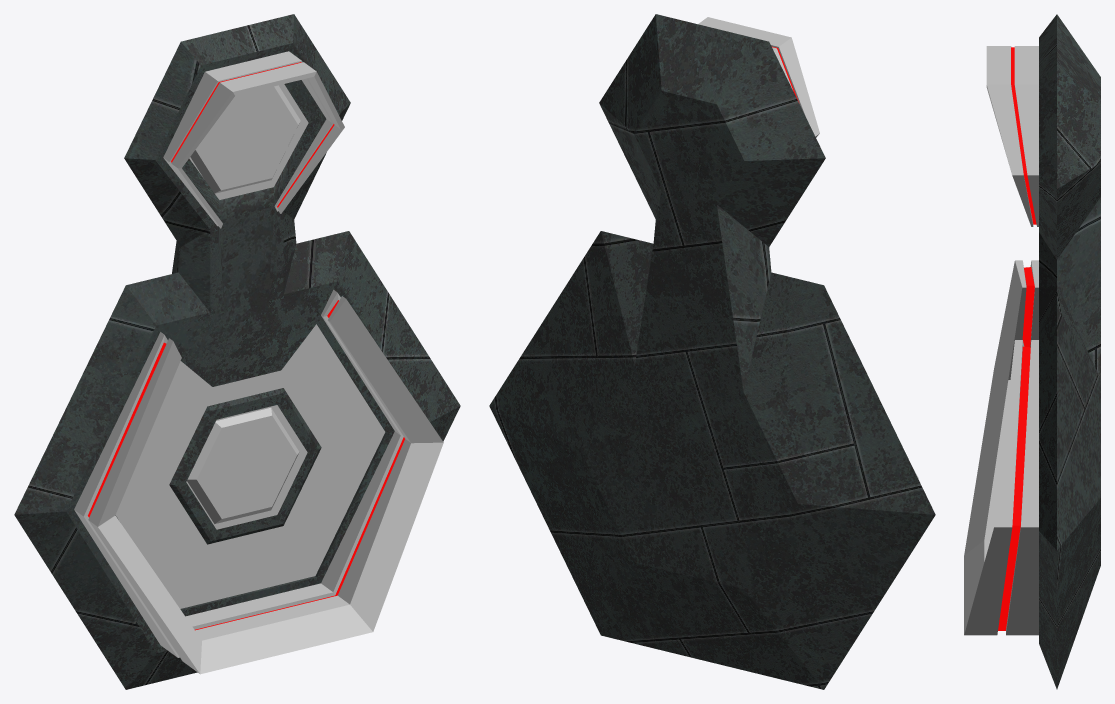
The model's file is EggPlatform_FixedNormals.fbx.
3 renders of one model, left to right at view 1: azimuth 30°, elevation 25°; view 2: azimuth 150°, elevation 25°; view 3: azimuth 270°, elevation 25°, orthographic. The views are drawn at different scales.
Visible parts, largest first — view 1: Cylinder.073; view 2: Cylinder.073; view 3: Cylinder.073.
Boxes of the visible parts, left/top/right/bottom form: Cylinder.073: left=14, top=14, right=460, bottom=689; Cylinder.073: left=489, top=14, right=935, bottom=689; Cylinder.073: left=964, top=14, right=1100, bottom=689.
Bounding box in the file's own units: 440 × 598 × 124.
